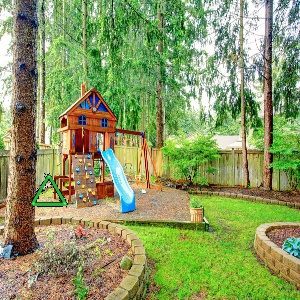triangle: (29, 172, 71, 210)
